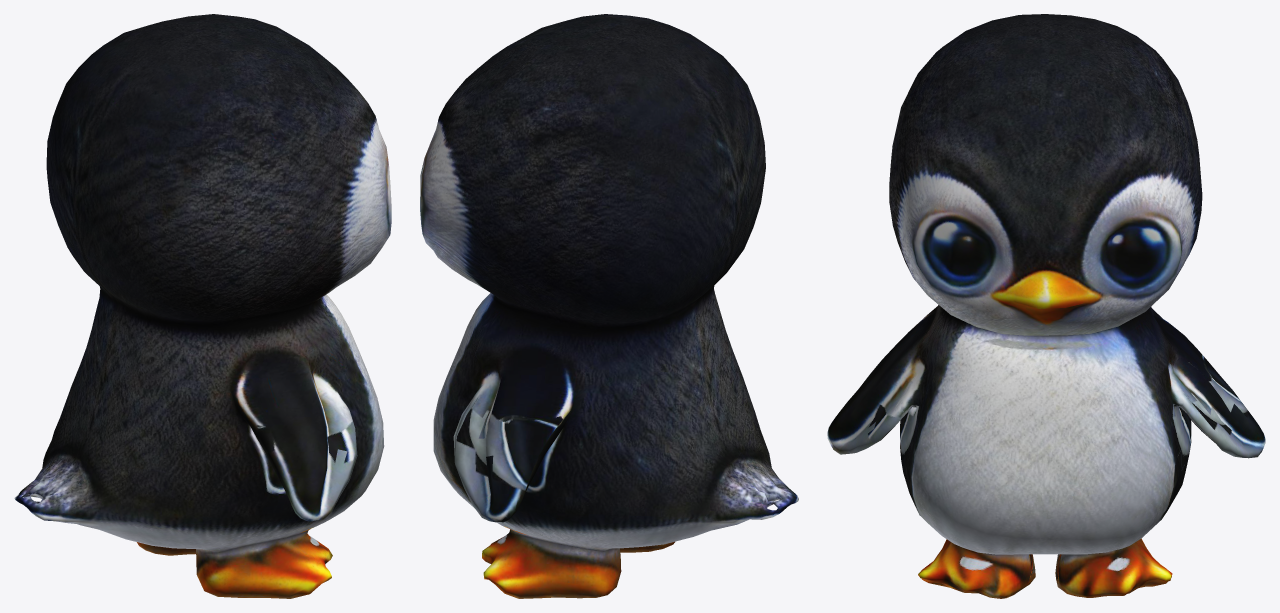
Rendered from mini_penguin.glb.
The picture shows the model from 3 angles, left to right: view 1: azimuth 30°, elevation 25°; view 2: azimuth 150°, elevation 25°; view 3: azimuth 270°, elevation 25°; orthographic projection.
Visible parts, largest first — view 1: mesh; view 2: mesh; view 3: mesh.
Boxes of the visible parts, bbox=[...] form: mesh: bbox=[14, 14, 391, 598]; mesh: bbox=[420, 14, 798, 598]; mesh: bbox=[827, 14, 1265, 598].
Bounding box in the file's own units: 0.6798 × 0.9997 × 0.7332.
Materials: 1 (1 with a texture image).
